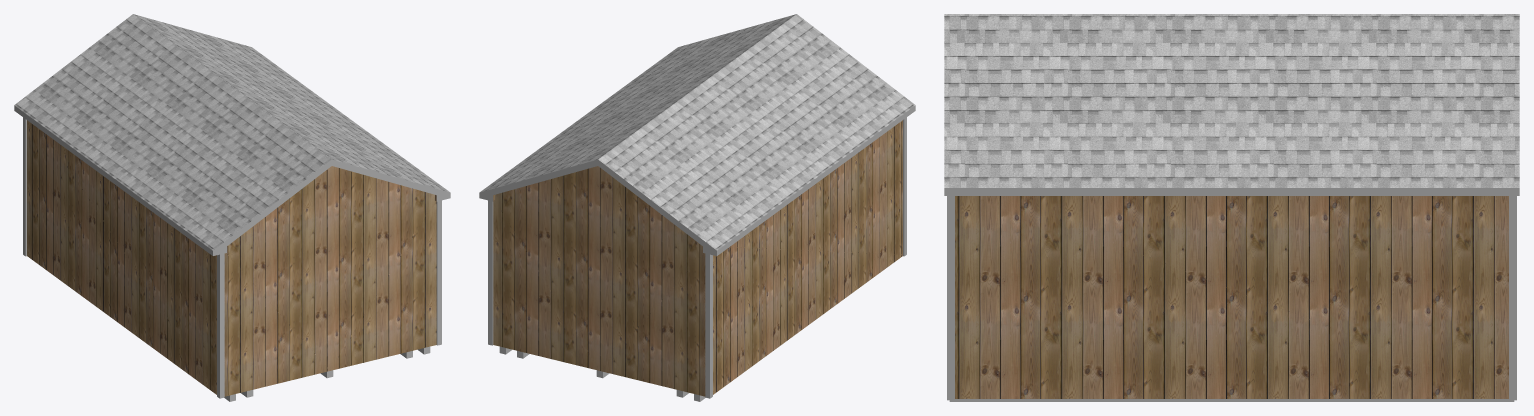
File: Single Garage A-frame_12x18.obj
3 views of the same model, side by side, from view 1: azimuth 30°, elevation 25°; view 2: azimuth 150°, elevation 25°; view 3: azimuth 270°, elevation 25° (orthographic). The views are drawn at different scales.
Parts seen in each view (by area): view 1: Shed, Roof, Sides, Trim; view 2: Shed, Roof, Sides, Trim; view 3: Shed, Roof, Sides, Trim, Floor.
Part boxes in pixels (x1,y1,x2,y2): Shed: (27,120,436,396); Roof: (14,14,450,250); Sides: (14,105,450,255); Trim: (23,117,441,398); Shed: (493,120,902,396); Roof: (479,14,915,250); Sides: (479,105,915,255); Trim: (488,117,906,398); Shed: (955,196,1508,398); Roof: (944,14,1519,187); Sides: (944,188,1519,195); Trim: (947,196,1516,400); Floor: (949,399,1514,401).
Size of the model in its own units: 3.86 by 3.4 by 5.59.
